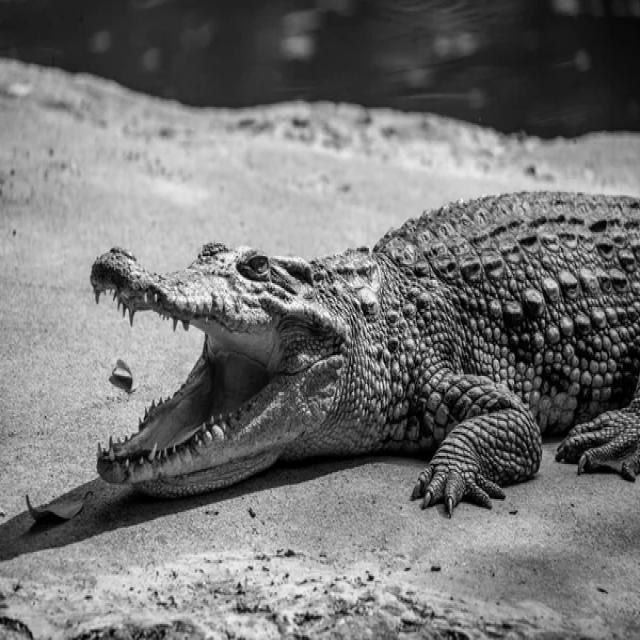Animal: (72, 178, 640, 525)
